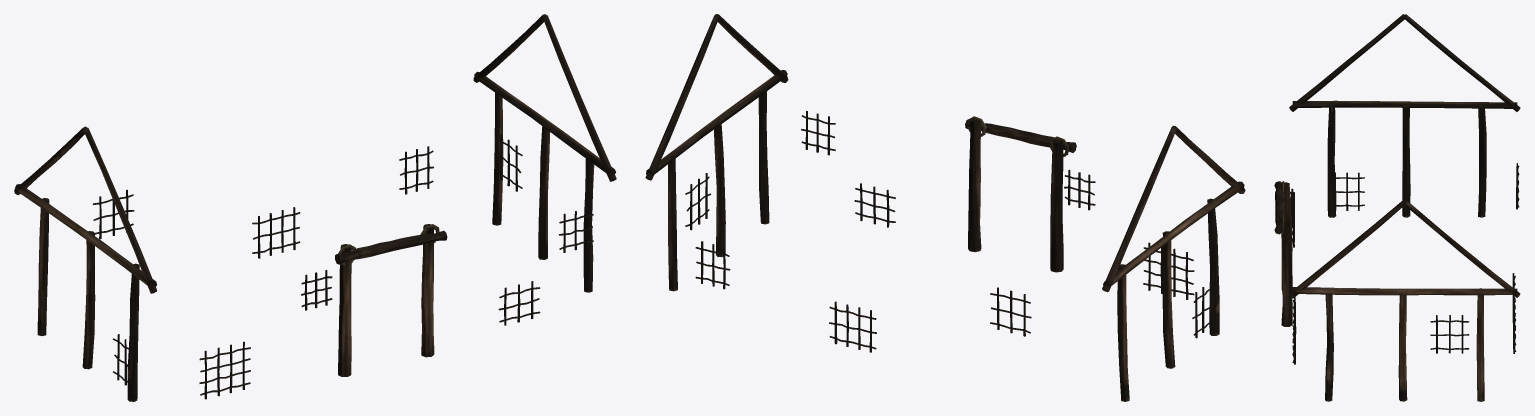
File: longhouse_wattle.gltf
3 views of the same model, side by side, from view 1: azimuth 30°, elevation 25°; view 2: azimuth 150°, elevation 25°; view 3: azimuth 270°, elevation 25° (orthographic). The views are drawn at different scales.
Parts seen in each view (by area): view 1: longhouse_wattle; view 2: longhouse_wattle; view 3: longhouse_wattle.
Boxes of the visible parts, x1=… form: longhouse_wattle: x1=14, y1=14, x2=616, y2=401; longhouse_wattle: x1=645, y1=14, x2=1245, y2=401; longhouse_wattle: x1=1274, y1=14, x2=1520, y2=401.
Size of the model in its own units: 6.99 by 3.45 by 3.84.
Materials: 2 (2 with a texture image).
